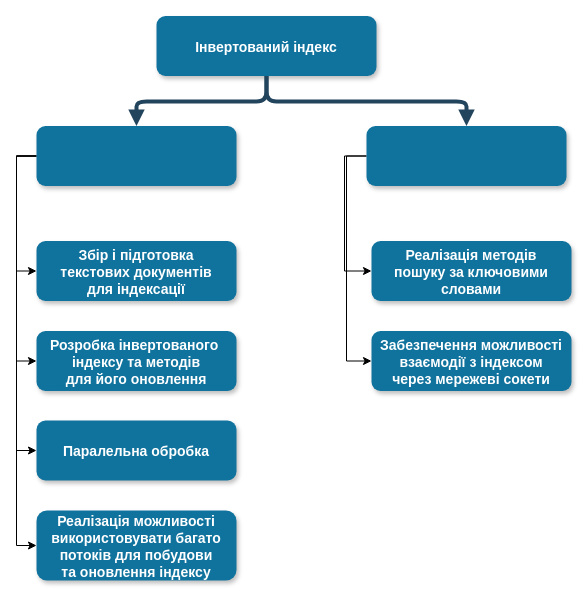
This 588x597 diagram has some shape labels left out. Here are the shapes that lost their labels. From the top down, the centre of each, then its label:
At (137,157): "Побудова інвертованого індексу".
At (467,157): "Пошук та користування індексом".
